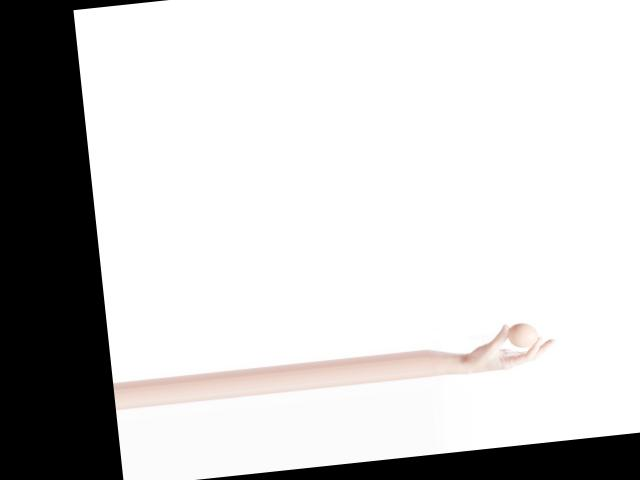egg: (505, 321, 538, 348)
